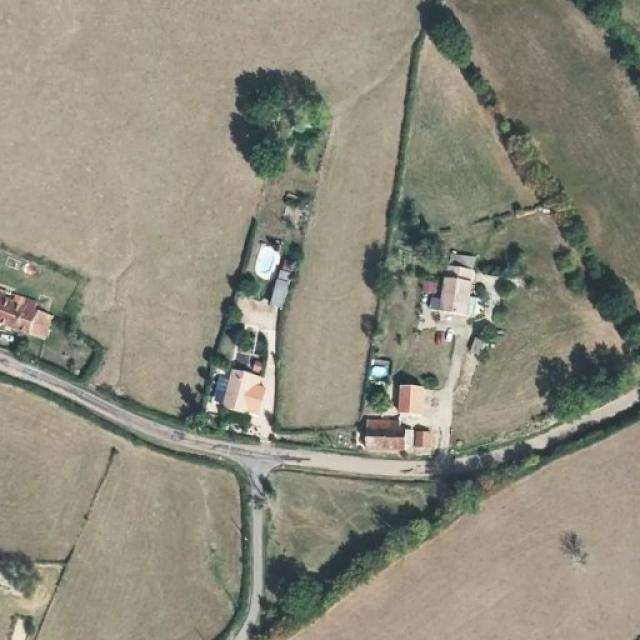maison: (0, 262, 58, 346), (429, 242, 478, 323), (222, 351, 266, 420), (361, 415, 407, 448), (396, 382, 421, 411), (413, 430, 427, 444)
piscine: (250, 237, 280, 282), (367, 354, 393, 387)
